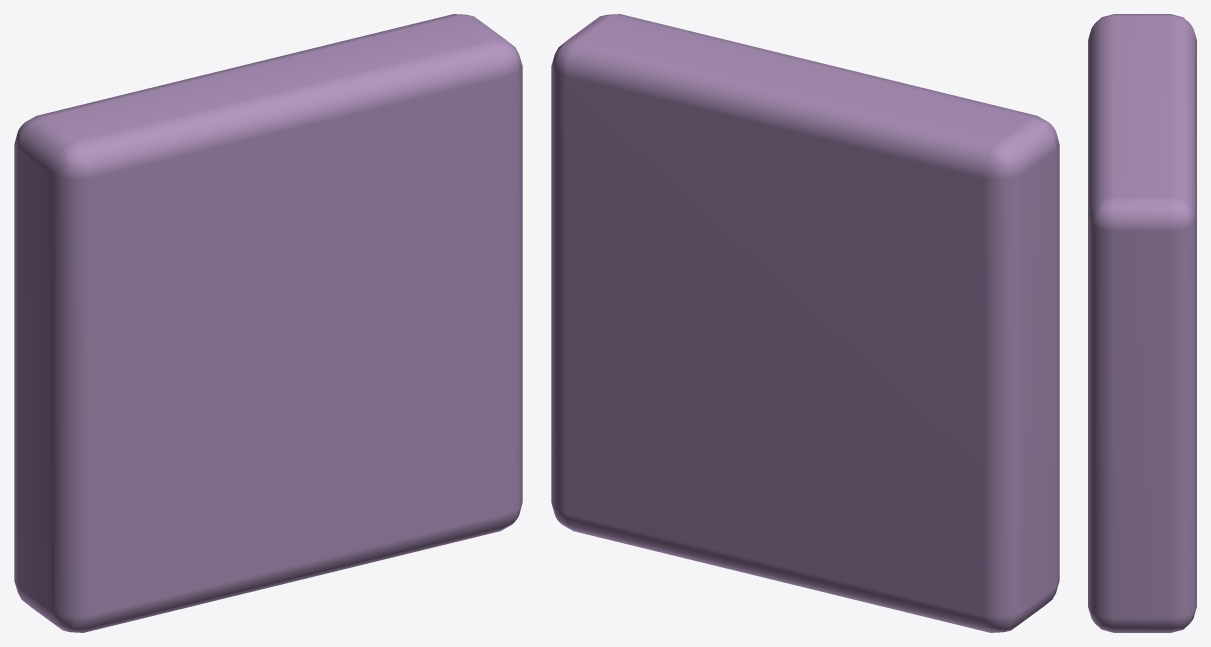
The model's file is shape-square-purple.glb.
The picture shows the model from 3 angles, left to right: view 1: azimuth 30°, elevation 25°; view 2: azimuth 150°, elevation 25°; view 3: azimuth 270°, elevation 25°; orthographic projection. The views are drawn at different scales.
Parts seen in each view (by area): view 1: solid square; view 2: solid square; view 3: solid square.
Boxes of the visible parts, <box> form: solid square: <box>14,14,522,632</box>; solid square: <box>551,14,1059,632</box>; solid square: <box>1088,14,1196,632</box>.
Bounding box in the file's own units: 1.1 × 1.1 × 0.25.
